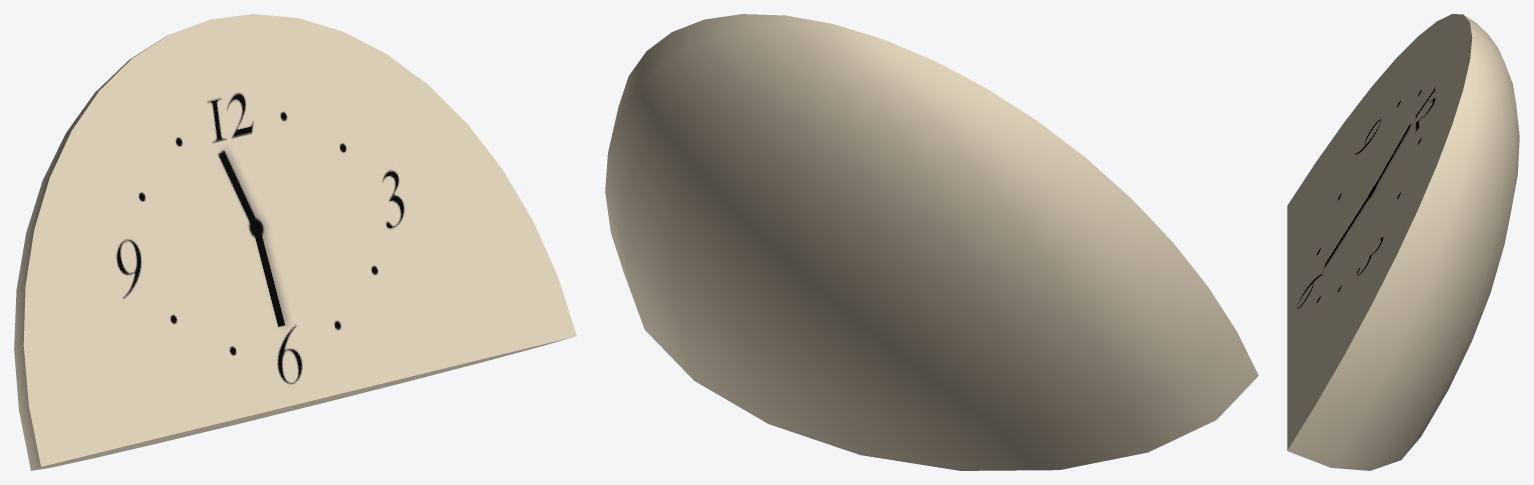
Rendered from newclock02.fbx.
The picture shows the model from 3 angles, left to right: view 1: azimuth 30°, elevation 25°; view 2: azimuth 150°, elevation 25°; view 3: azimuth 270°, elevation 25°; orthographic projection. The views are drawn at different scales.
Parts seen in each view (by area): view 1: pSphere2; view 2: pSphere2; view 3: pSphere2.
Boxes of the visible parts, left/top/right/bottom form: pSphere2: left=14, top=14, right=576, bottom=470; pSphere2: left=605, top=14, right=1258, bottom=470; pSphere2: left=1287, top=14, right=1519, bottom=470.
Bounding box in the file's own units: 3.07 × 2.13 × 1.23.
1 material, 1 textured.
